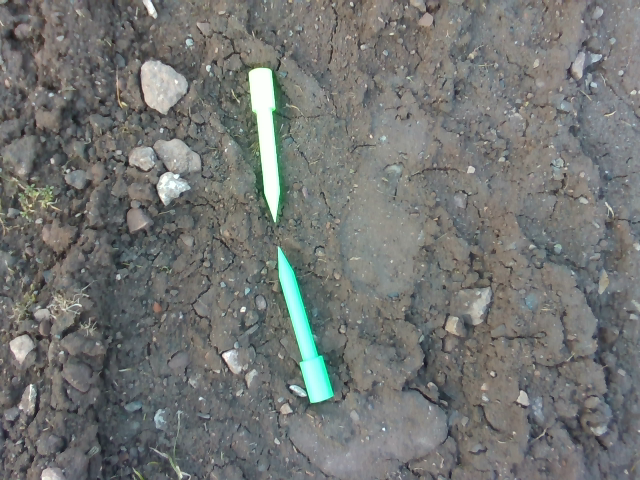Probe: (272, 238, 338, 406), (245, 64, 288, 227)
